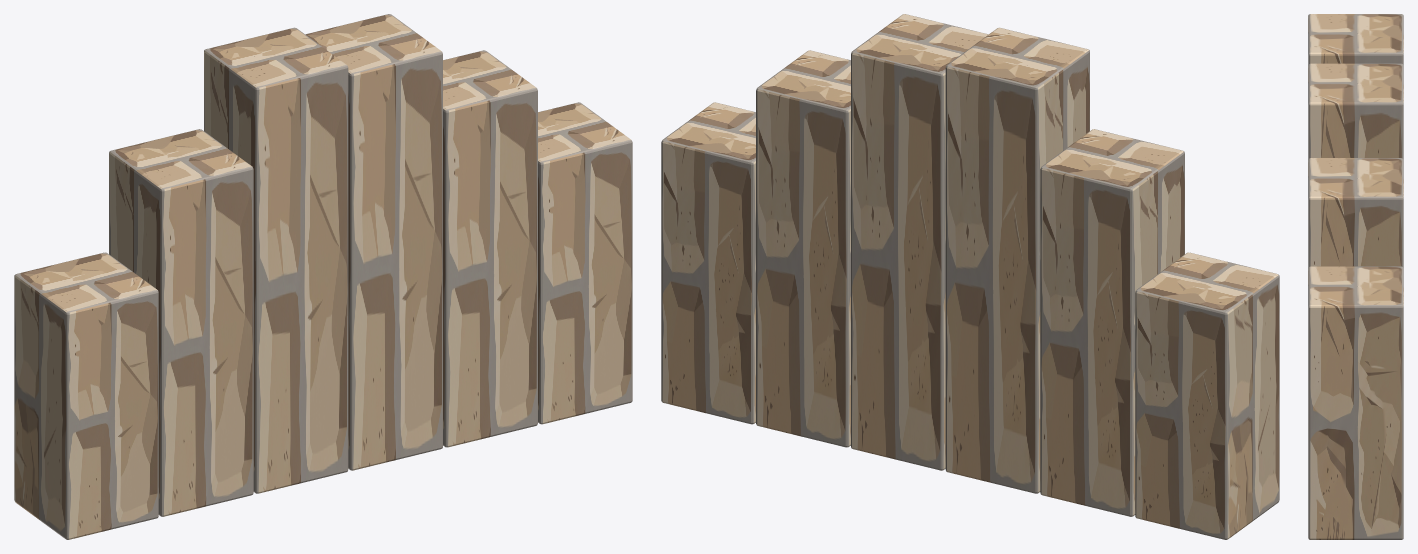
The model's file is ruin_wall_260_LOD2.glb.
The picture shows the model from 3 angles, left to right: view 1: azimuth 30°, elevation 25°; view 2: azimuth 150°, elevation 25°; view 3: azimuth 270°, elevation 25°; orthographic projection. The views are drawn at different scales.
Parts seen in each view (by area): view 1: LOD2_Profile.002, LOD2_Profile.003, LOD2_Profile.001, LOD2_Profile, LOD2_Profile.004, LOD2_Profile.005; view 2: LOD2_Profile.002, LOD2_Profile.003, LOD2_Profile.001, LOD2_Profile, LOD2_Profile.004, LOD2_Profile.005; view 3: LOD2_Profile.005, LOD2_Profile.004, LOD2_Profile.003, LOD2_Profile.002.
Boxes of the visible parts, <box> form: LOD2_Profile.002: <box>204,27,348,493</box>; LOD2_Profile.003: <box>305,14,442,470</box>; LOD2_Profile.001: <box>109,129,253,516</box>; LOD2_Profile: <box>14,252,158,539</box>; LOD2_Profile.004: <box>443,50,537,447</box>; LOD2_Profile.005: <box>538,102,632,424</box>; LOD2_Profile.002: <box>945,27,1089,493</box>; LOD2_Profile.003: <box>851,14,988,470</box>; LOD2_Profile.001: <box>1040,129,1184,516</box>; LOD2_Profile: <box>1135,252,1279,539</box>; LOD2_Profile.004: <box>756,50,850,447</box>; LOD2_Profile.005: <box>661,102,755,424</box>; LOD2_Profile.005: <box>1308,266,1403,539</box>; LOD2_Profile.004: <box>1308,158,1403,267</box>; LOD2_Profile.003: <box>1308,63,1403,159</box>; LOD2_Profile.002: <box>1308,14,1403,64</box>.
Bounding box in the file's own units: 3.79 × 2.6 × 0.62.
Materials: 1 (1 with a texture image).
